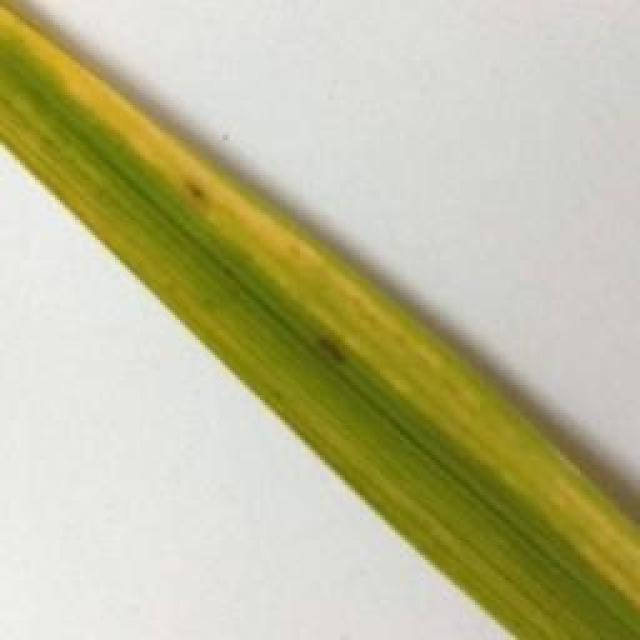Brown_Spot: (303, 324, 358, 385), (175, 173, 207, 207)
